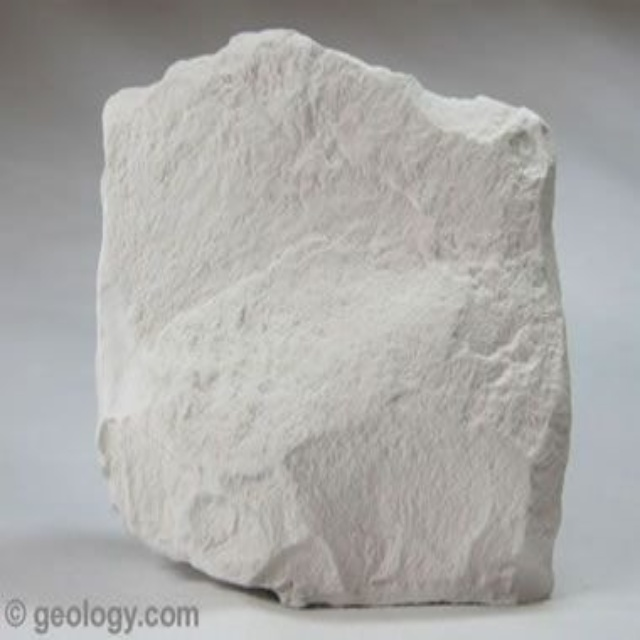obstacle: (98, 29, 569, 604)
